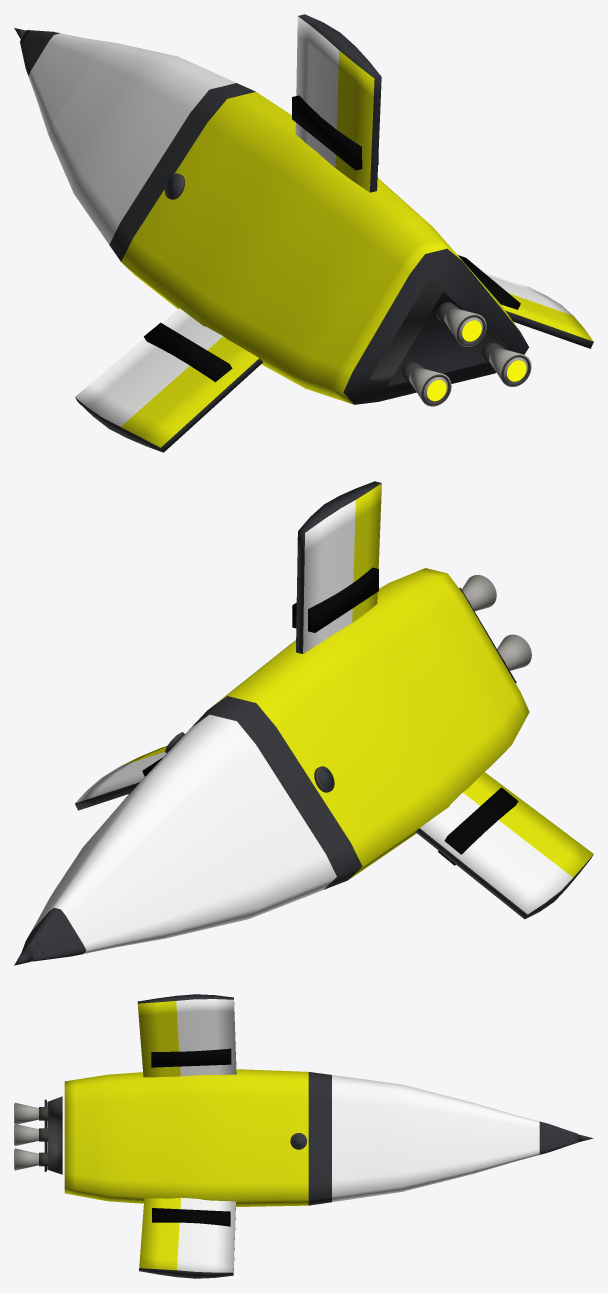
Rendered from Ship_Standard_11.glb.
3 views of the same model, one above another, from view 1: azimuth 30°, elevation 25°; view 2: azimuth 150°, elevation 25°; view 3: azimuth 270°, elevation 25° (orthographic). The views are drawn at different scales.
Parts seen in each view (by area): view 1: Fuselage_RoundedTriangleTriFoldBody, Wing_LowerLeft_TriFoldCornerBladePaintedMesh, Wing_Dorsal_TriFoldCornerBladePaintedMesh, Nose_RoundedTriangleTaperedForwardSection, EngineBlock_AftTriFoldTrimFrame, Wing_LowerRight_TriFoldCornerBladePaintedMesh, EngineBlock_AftTriangularIntegratedMountPlate, WingRootSocket_LowerLeft_IntegratedEmbeddedShoulder, WingRootSocket_Dorsal_IntegratedEmbeddedShoulder, EngineEmitter, EngineBell_Dorsal_BurnishedNozzle, EngineBell_LowerLeft_BurnishedNozzle (+2 smaller); view 2: Fuselage_RoundedTriangleTriFoldBody, Wing_LowerLeft_TriFoldCornerBladePaintedMesh, Nose_RoundedTriangleTaperedForwardSection, Wing_Dorsal_TriFoldCornerBladePaintedMesh, WingRootSocket_Dorsal_IntegratedEmbeddedShoulder, Wing_LowerRight_TriFoldCornerBladePaintedMesh, WingRootSocket_LowerLeft_IntegratedEmbeddedShoulder, EngineBell_LowerLeft_BurnishedNozzle, EngineBell_Dorsal_BurnishedNozzle; view 3: Fuselage_RoundedTriangleTriFoldBody, Wing_Dorsal_TriFoldCornerBladePaintedMesh, Wing_LowerRight_TriFoldCornerBladePaintedMesh, Nose_RoundedTriangleTaperedForwardSection, WingRootSocket_Dorsal_IntegratedEmbeddedShoulder, WingRootSocket_LowerRight_IntegratedEmbeddedShoulder, EngineBlock_AftTriangularIntegratedMountPlate, EngineBell_LowerRight_BurnishedNozzle, EngineBell_Dorsal_BurnishedNozzle, EngineBell_LowerLeft_BurnishedNozzle.
Boxes of the visible parts, x1,y1,x2,y2 form: Fuselage_RoundedTriangleTriFoldBody: (48,43,528,404); Wing_LowerLeft_TriFoldCornerBladePaintedMesh: (75,308,262,452); Wing_Dorsal_TriFoldCornerBladePaintedMesh: (295,14,381,192); Nose_RoundedTriangleTaperedForwardSection: (20,30,116,133); EngineBlock_AftTriFoldTrimFrame: (388,291,510,386); Wing_LowerRight_TriFoldCornerBladePaintedMesh: (482,271,593,348); EngineBlock_AftTriangularIntegratedMountPlate: (369,277,506,382); WingRootSocket_LowerLeft_IntegratedEmbeddedShoulder: (144,322,232,382); WingRootSocket_Dorsal_IntegratedEmbeddedShoulder: (292,95,378,170); EngineEmitter: (427,320,526,401); EngineBell_Dorsal_BurnishedNozzle: (444,308,486,346); EngineBell_LowerLeft_BurnishedNozzle: (409,367,451,406); Fuselage_RoundedTriangleTriFoldBody: (55,568,529,938); Wing_LowerLeft_TriFoldCornerBladePaintedMesh: (416,772,593,919); Nose_RoundedTriangleTaperedForwardSection: (21,840,172,961); Wing_Dorsal_TriFoldCornerBladePaintedMesh: (296,481,381,653); WingRootSocket_Dorsal_IntegratedEmbeddedShoulder: (292,567,378,632); Wing_LowerRight_TriFoldCornerBladePaintedMesh: (75,746,166,810); WingRootSocket_LowerLeft_IntegratedEmbeddedShoulder: (438,787,518,865); EngineBell_LowerLeft_BurnishedNozzle: (497,634,531,670); EngineBell_Dorsal_BurnishedNozzle: (462,575,496,611); Fuselage_RoundedTriangleTriFoldBody: (64,1069,473,1206); Wing_Dorsal_TriFoldCornerBladePaintedMesh: (137,994,236,1077); Wing_LowerRight_TriFoldCornerBladePaintedMesh: (139,1197,235,1278); Nose_RoundedTriangleTaperedForwardSection: (473,1103,577,1173); WingRootSocket_Dorsal_IntegratedEmbeddedShoulder: (151,1048,231,1067); WingRootSocket_LowerRight_IntegratedEmbeddedShoulder: (152,1208,230,1226); EngineBlock_AftTriangularIntegratedMountPlate: (47,1096,62,1174); EngineBell_LowerRight_BurnishedNozzle: (15,1148,38,1170); EngineBell_Dorsal_BurnishedNozzle: (15,1102,38,1124); EngineBell_LowerLeft_BurnishedNozzle: (15,1124,38,1145).
Size of the model in its own units: 4.32 by 3.07 by 7.54.
